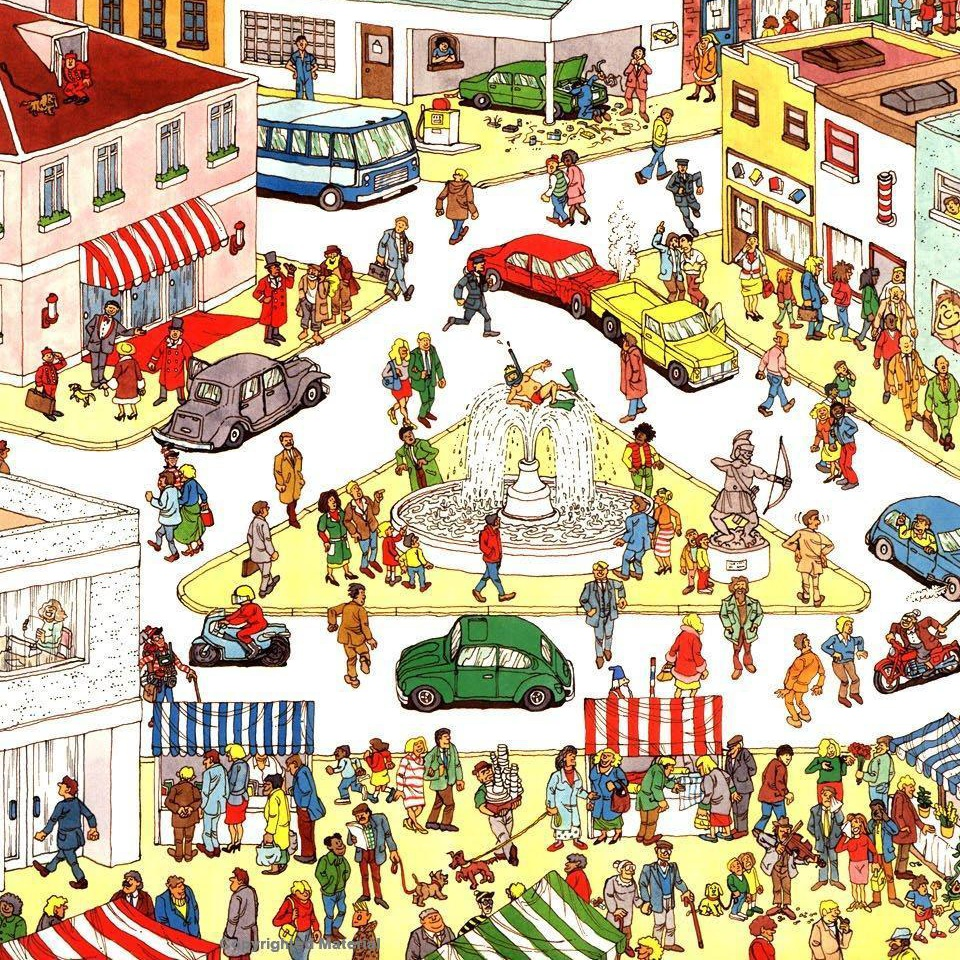waldo: (141, 624, 200, 700)
